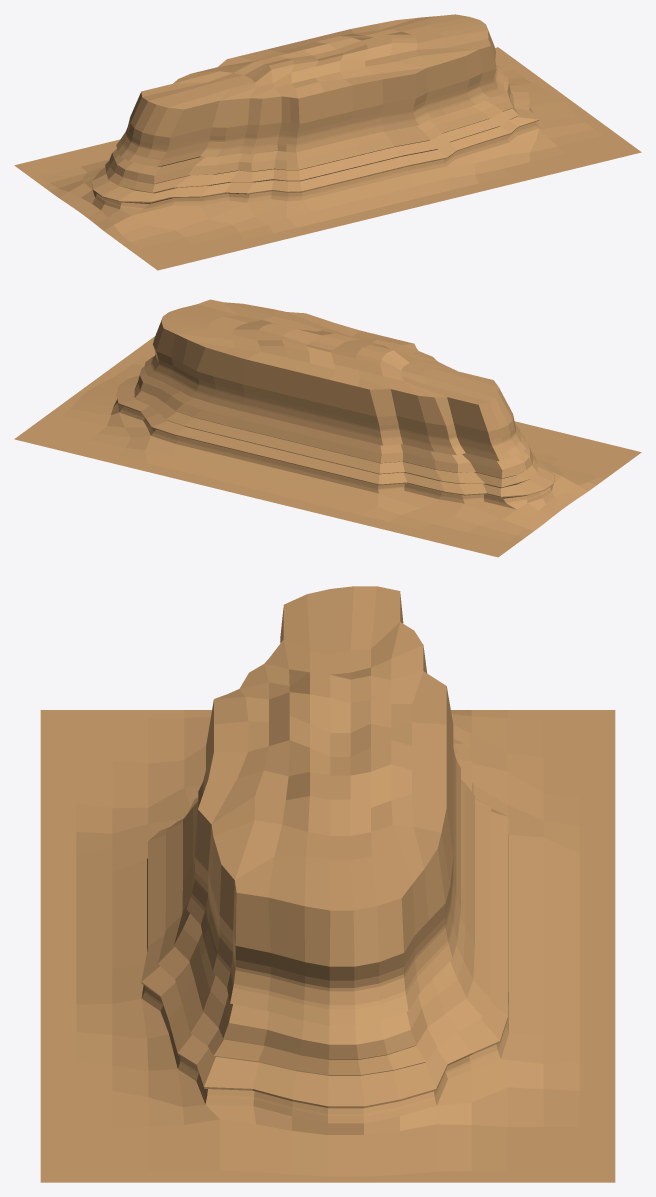
The model's file is Plateau 002.fbx.
3 views of the same model, one above another, from view 1: azimuth 30°, elevation 25°; view 2: azimuth 150°, elevation 25°; view 3: azimuth 270°, elevation 25° (orthographic). The views are drawn at different scales.
Parts seen in each view (by area): view 1: Plane.002; view 2: Plane.002; view 3: Plane.002.
Part boxes in pixels (x1,y1,x2,y2): Plane.002: (14, 14, 641, 270); Plane.002: (14, 299, 641, 557); Plane.002: (40, 586, 615, 1182).
Size of the model in its own units: 41383 by 8755 by 21273.
